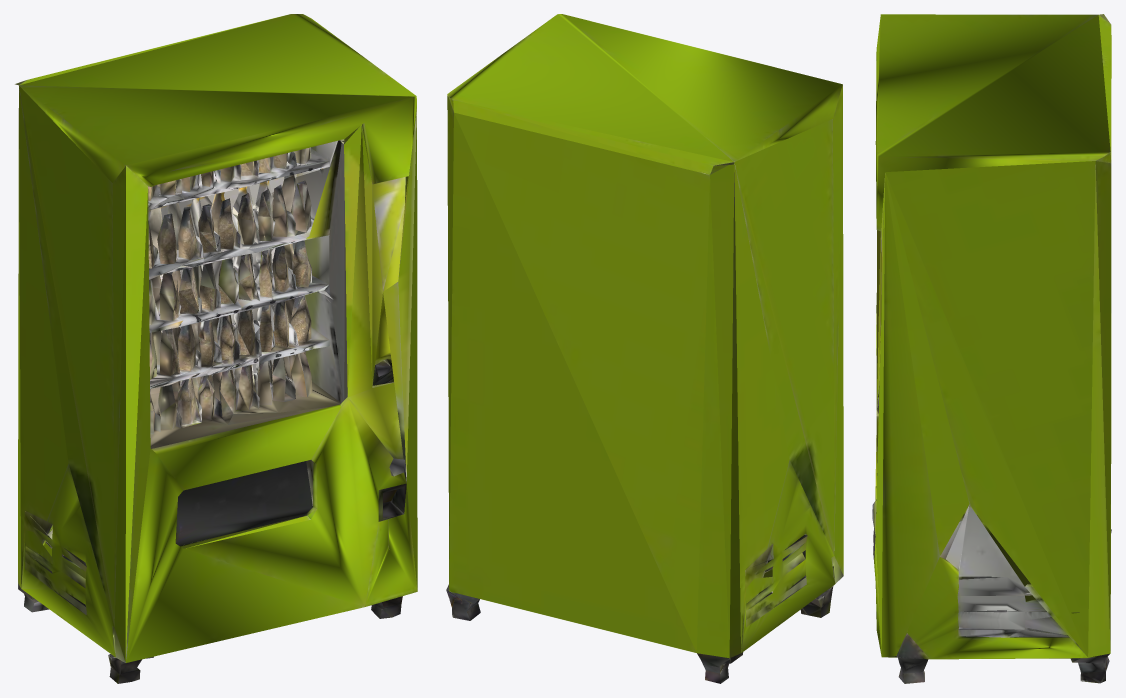
Rendered from perk_fv_quickhands.glb.
3 renders of one model, left to right at view 1: azimuth 30°, elevation 25°; view 2: azimuth 150°, elevation 25°; view 3: azimuth 270°, elevation 25°, orthographic.
Parts seen in each view (by area): view 1: perk_fv_quickhands; view 2: perk_fv_quickhands; view 3: perk_fv_quickhands.
Boxes of the visible parts, x1=… form: perk_fv_quickhands: x1=15, y1=14, x2=417, y2=683; perk_fv_quickhands: x1=446, y1=14, x2=843, y2=683; perk_fv_quickhands: x1=872, y1=14, x2=1111, y2=683.
Bounding box in the file's own units: 1.17 × 2 × 0.8188.
Materials: 1 (1 with a texture image).
